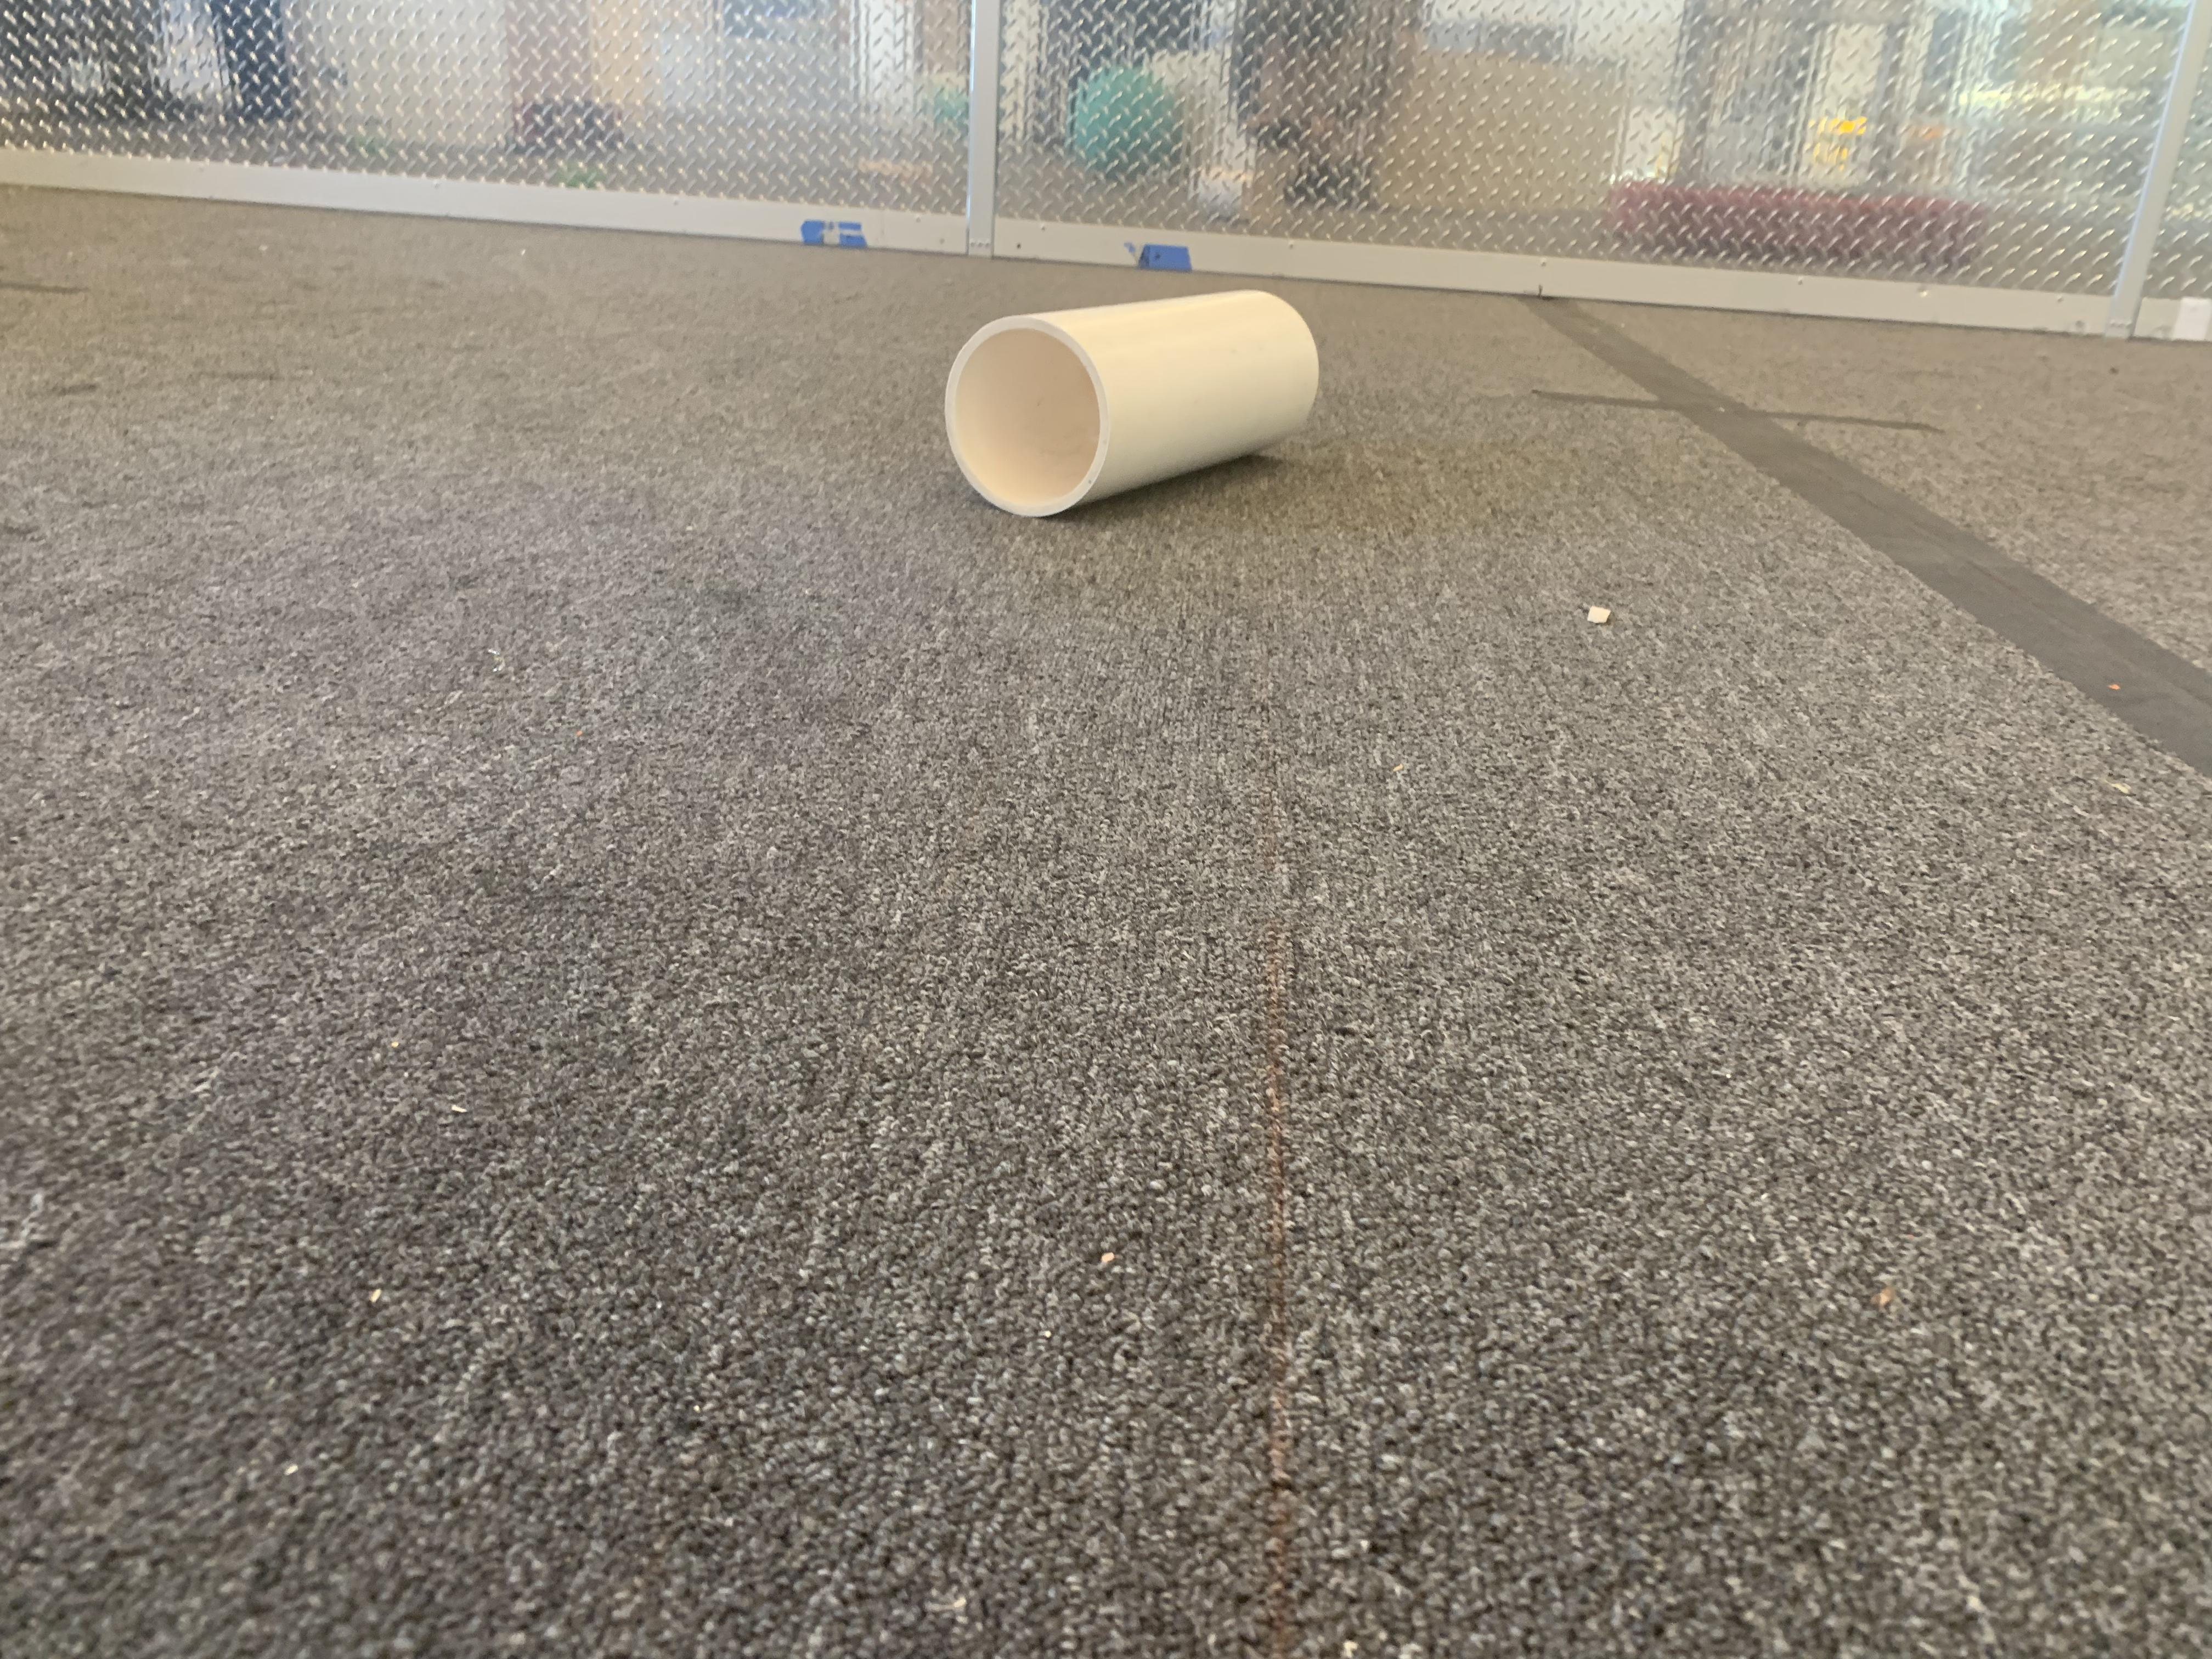coral: (939, 284, 1322, 519)
